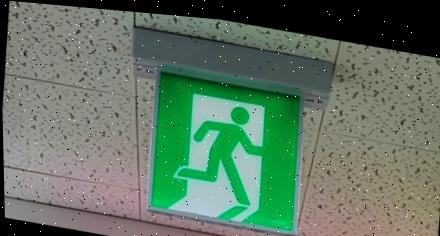emergency_exit: (146, 64, 304, 235)
